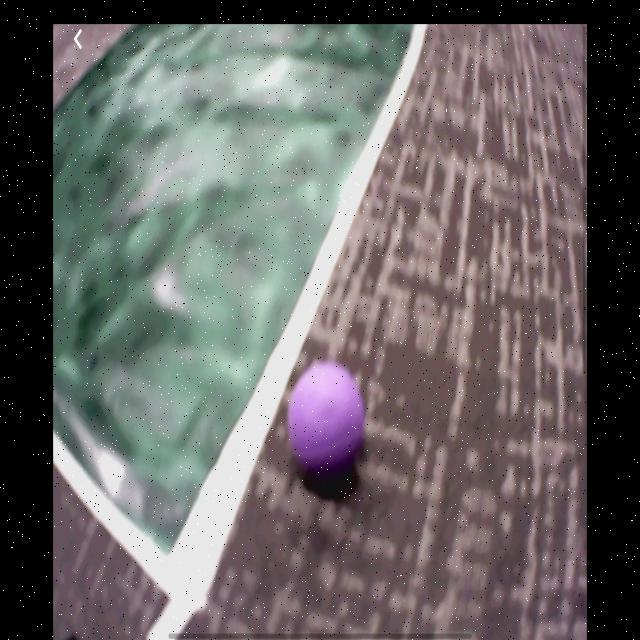ball: (290, 363, 366, 474)
